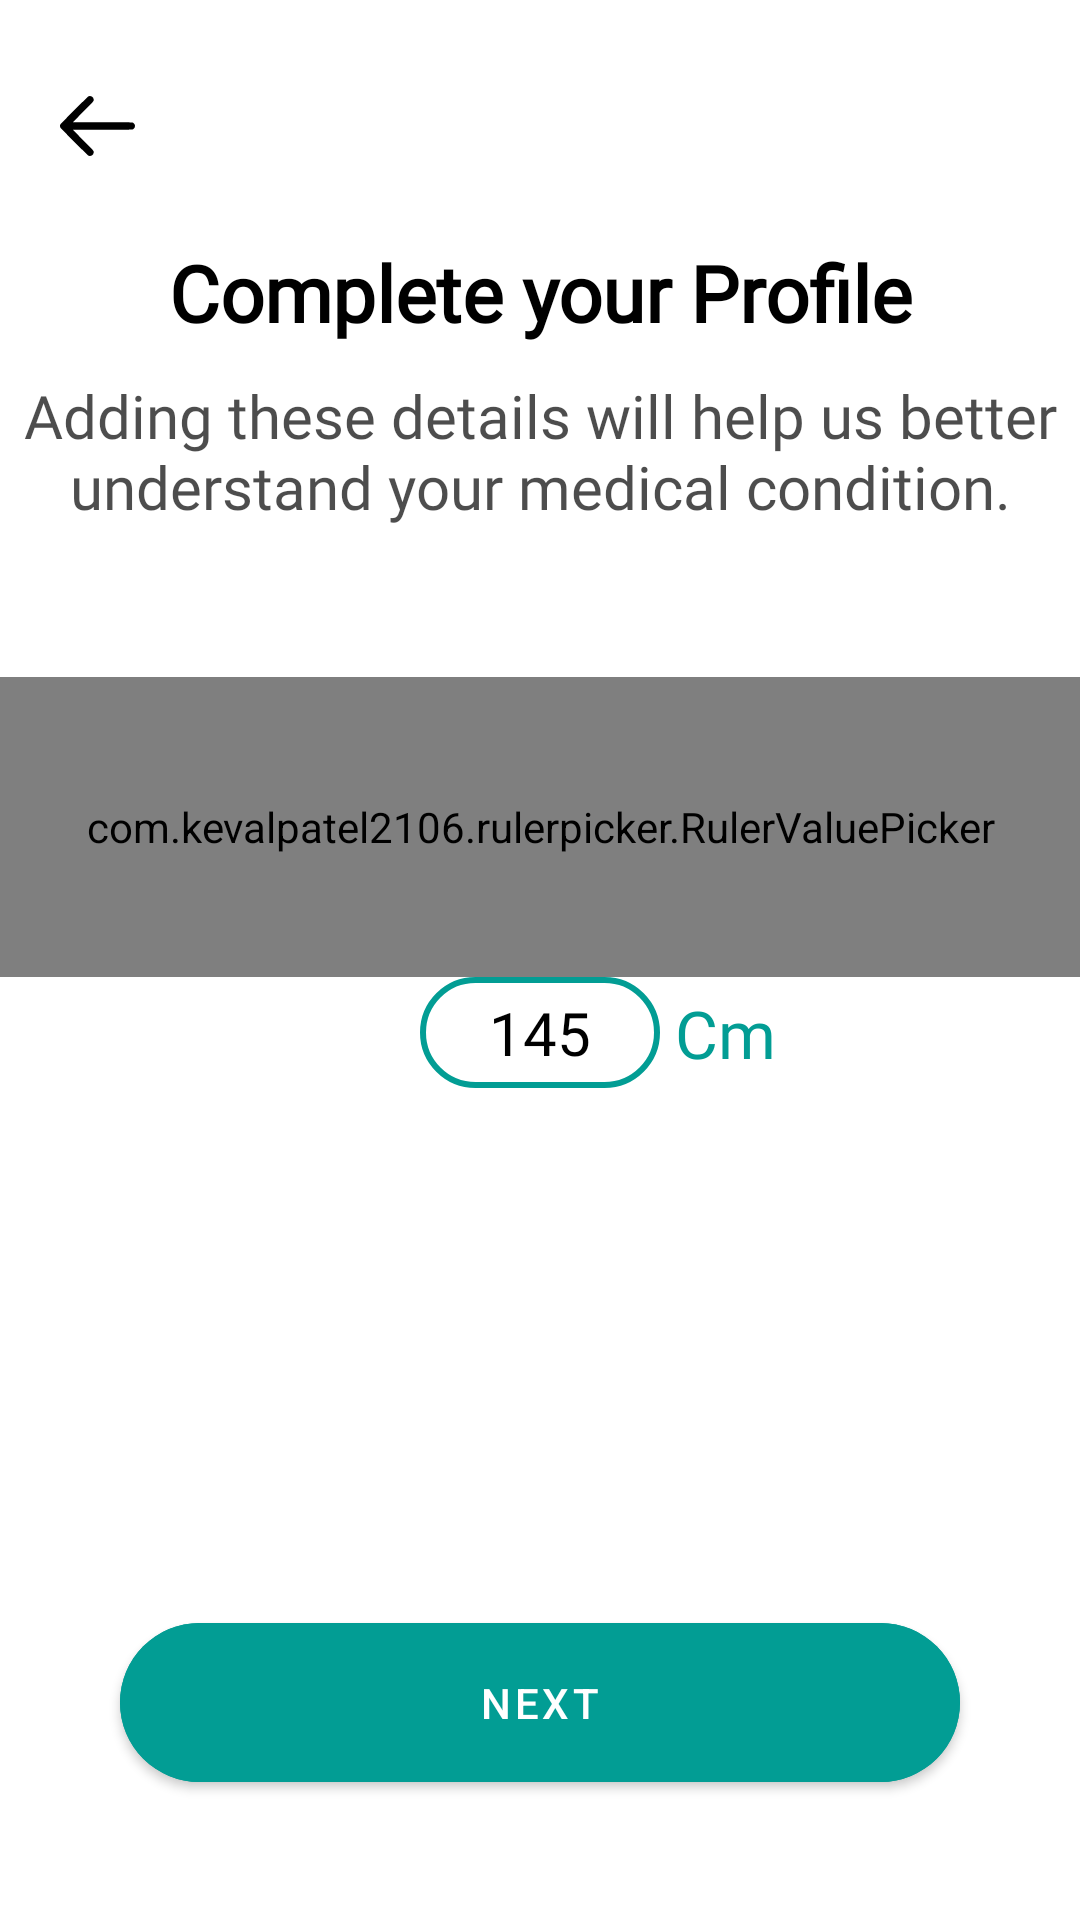

Locate icon controls on the screen. Image size 1080px×1920px, boxes as (x1, y1, x2, y2).
back: (60, 96, 135, 156)
